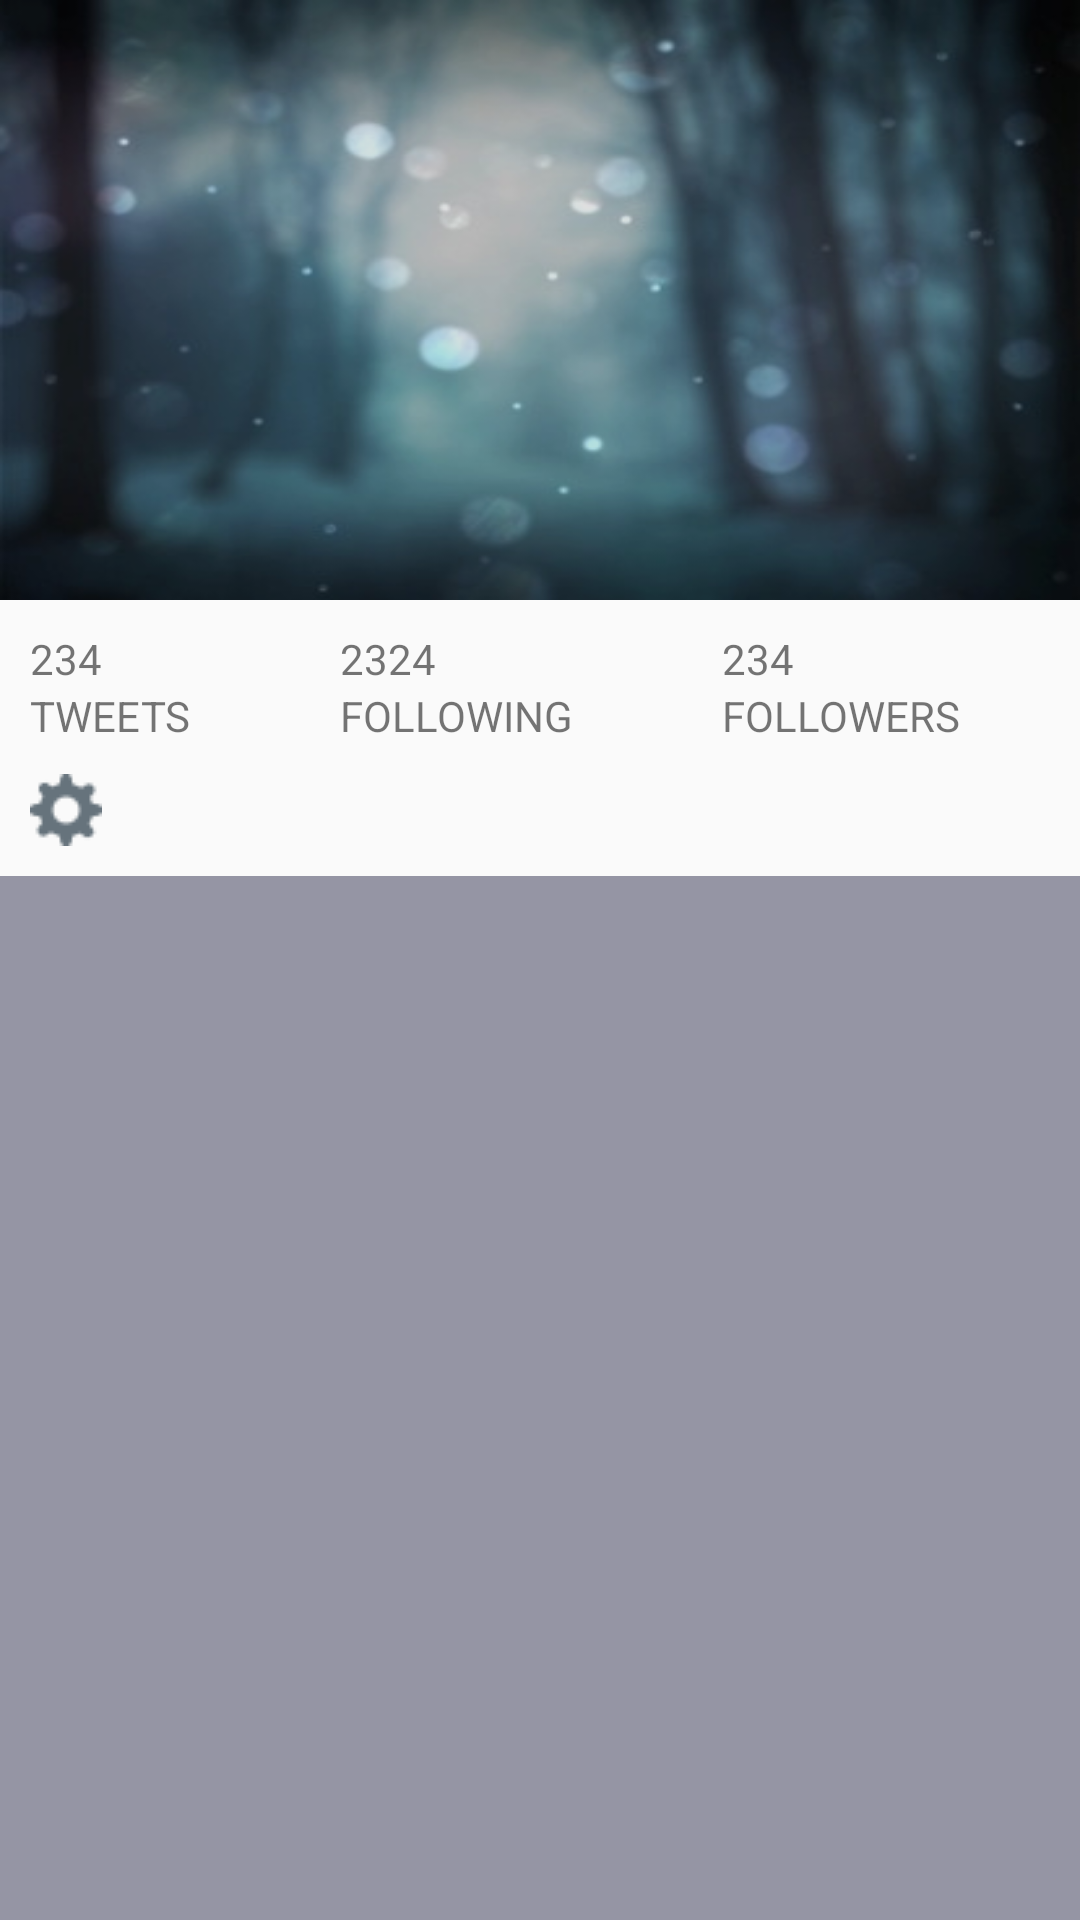

Icon bounding boxes for this 1080 x 1920 phone screenshot, format (x1, y1, x2, y2):
setting: (30, 774, 102, 846)
